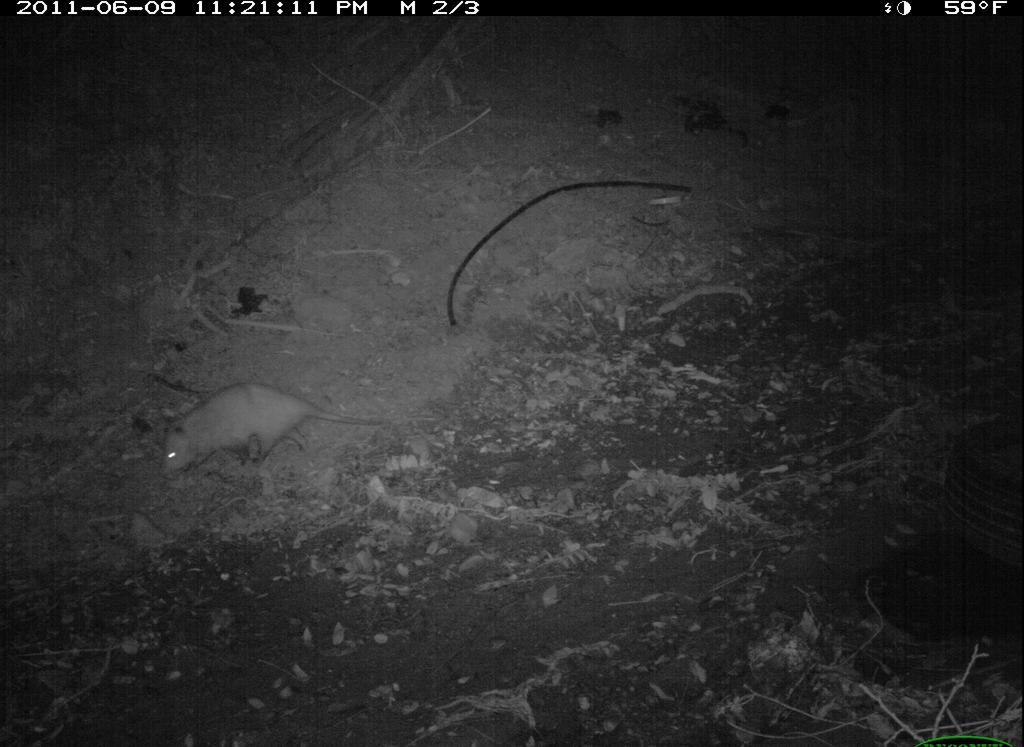opossum: (143, 378, 415, 487)
